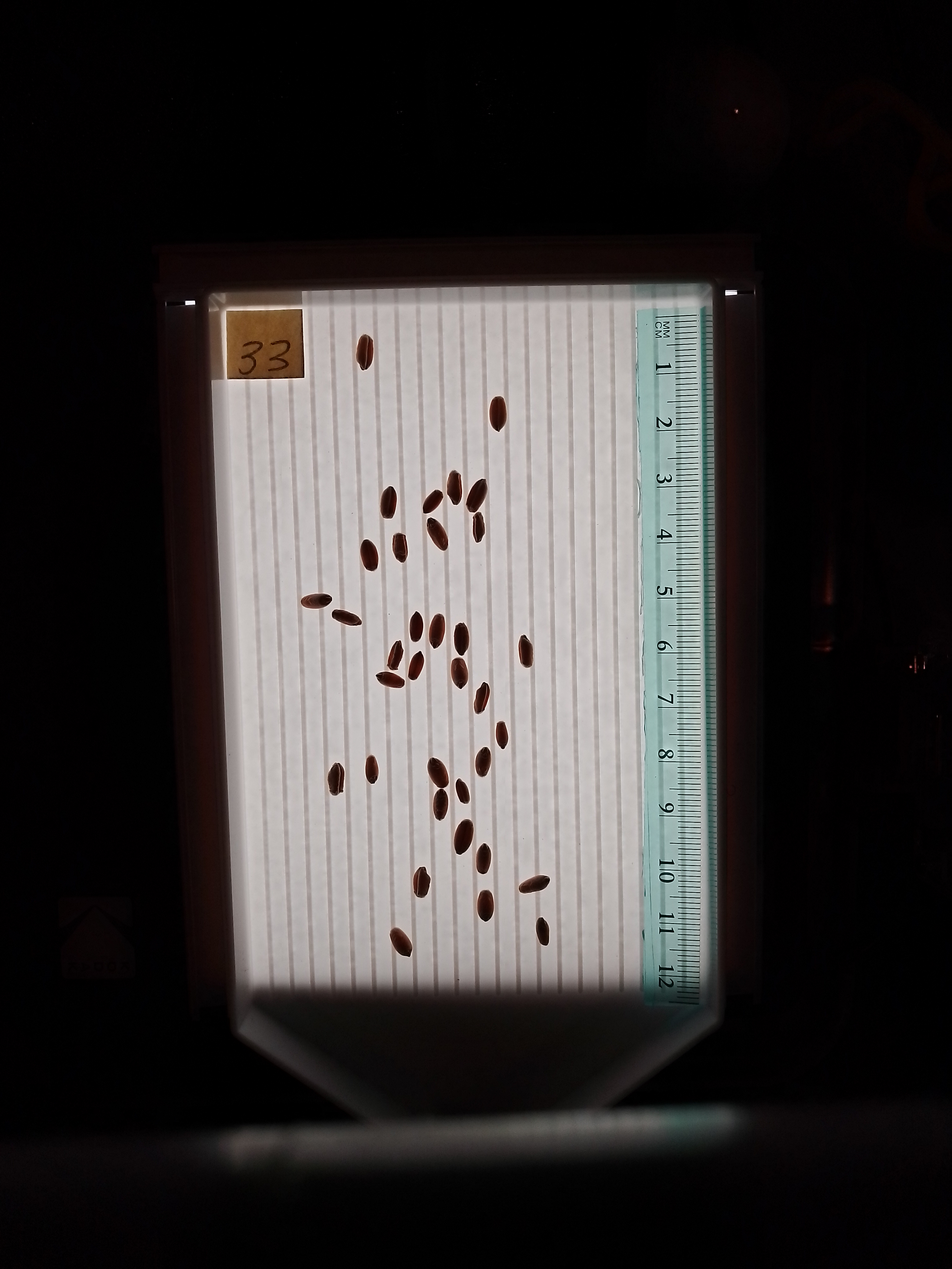seed mask: (466, 479, 488, 513), (454, 820, 473, 854), (427, 518, 447, 550), (356, 335, 374, 370), (519, 874, 550, 894), (390, 928, 412, 956), (428, 758, 448, 788), (360, 540, 379, 571), (489, 397, 506, 431), (327, 763, 345, 795), (380, 486, 398, 518), (429, 615, 445, 648), (413, 867, 430, 898), (477, 891, 494, 921), (451, 658, 468, 688), (447, 471, 462, 505), (423, 490, 443, 515), (518, 636, 534, 667), (474, 684, 490, 713), (333, 609, 360, 626), (433, 790, 448, 820), (454, 624, 469, 654), (475, 748, 491, 776), (536, 917, 551, 946), (476, 844, 491, 873), (301, 594, 330, 609), (377, 672, 404, 688), (393, 534, 408, 562), (409, 653, 424, 680), (365, 756, 379, 784), (388, 642, 402, 670), (410, 614, 423, 641), (495, 722, 508, 748), (473, 514, 485, 542), (455, 780, 469, 803)
